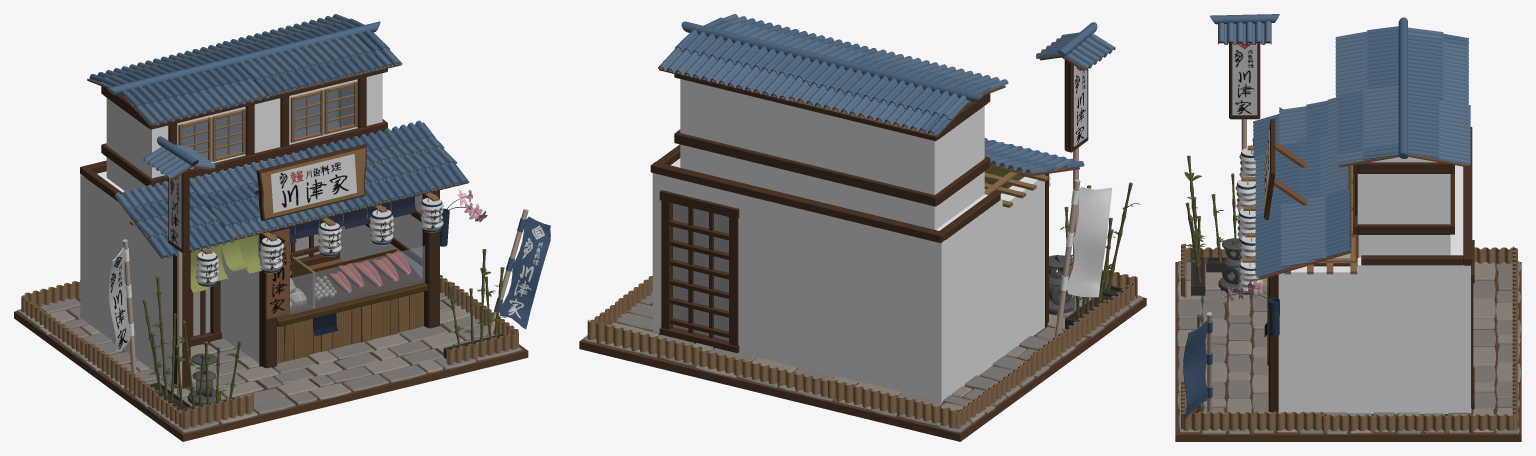
Rendered from int_japo.glb.
3 views of the same model, side by side, from view 1: azimuth 30°, elevation 25°; view 2: azimuth 150°, elevation 25°; view 3: azimuth 270°, elevation 25° (orthographic). The views are drawn at different scales.
Parts seen in each view (by area): view 1: pCube52, pCube4, pCube48, pCube1, polySurface53, pCube112, pCube83, pCube154, pCube42, polySurface498, polySurface647, polySurface649 (+57 smaller); view 2: pCube52, pCube4, pCube83, pCube1, pCube62, polySurface535, polySurface260, polySurface653, polySurface655, pCube53, polySurface654, polySurface652 (+25 smaller); view 3: pCube52, pCube4, pCube1, pCube83, polySurface241, polySurface242, pCube62, polySurface653, polySurface647, polySurface655, polySurface649, polySurface654 (+62 smaller).
Part boxes in pixels (left/top/right/bottom): pCube52: left=80, top=181, right=422, bottom=385; pCube4: left=106, top=73, right=382, bottom=192; pCube48: left=277, top=246, right=424, bottom=317; pCube1: left=14, top=299, right=528, bottom=441; polySurface53: left=277, top=291, right=423, bottom=363; pCube112: left=173, top=190, right=439, bottom=388; pCube83: left=101, top=68, right=387, bottom=186; pCube154: left=270, top=154, right=356, bottom=212; pCube42: left=220, top=234, right=259, bottom=362; polySurface498: left=500, top=216, right=550, bottom=329; polySurface647: left=238, top=33, right=373, bottom=81; polySurface649: left=133, top=78, right=269, bottom=125; pCube52: left=652, top=174, right=1044, bottom=402; pCube4: left=680, top=79, right=984, bottom=229; pCube83: left=674, top=74, right=990, bottom=206; pCube1: left=579, top=297, right=1146, bottom=441; pCube62: left=650, top=144, right=1000, bottom=243; polySurface535: left=673, top=203, right=728, bottom=340; polySurface260: left=1067, top=186, right=1112, bottom=297; polySurface653: left=802, top=61, right=949, bottom=115; polySurface655: left=658, top=47, right=802, bottom=101; pCube53: left=652, top=158, right=1002, bottom=250; polySurface654: left=675, top=29, right=819, bottom=80; polySurface652: left=789, top=81, right=931, bottom=131; pCube52: left=1278, top=266, right=1470, bottom=413; pCube4: left=1357, top=157, right=1450, bottom=257; pCube1: left=1175, top=262, right=1521, bottom=441; pCube83: left=1353, top=162, right=1454, bottom=234; polySurface241: left=1183, top=411, right=1323, bottom=432; polySurface242: left=1321, top=414, right=1462, bottom=432; pCube62: left=1361, top=127, right=1472, bottom=265; polySurface653: left=1407, top=35, right=1443, bottom=99; polySurface647: left=1363, top=85, right=1398, bottom=148; polySurface655: left=1434, top=100, right=1470, bottom=165; polySurface649: left=1335, top=31, right=1367, bottom=99; polySurface654: left=1407, top=94, right=1439, bottom=158.
Size of the model in its own units: 19.71 by 12.58 by 14.6.
Materials: 50 (6 with a texture image).
